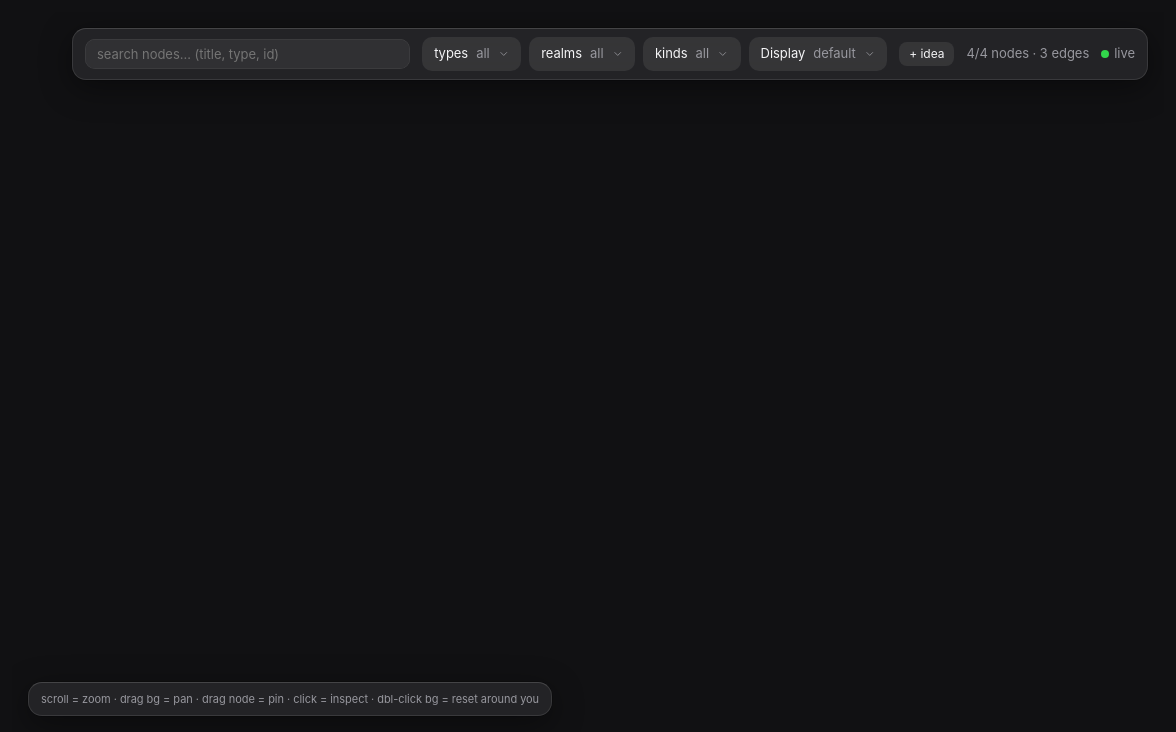
Map › drops a node type from the count when its facet is switched off
Expected: the text "4/4 nodes · 3 edges" is shown, [966, 44, 1089, 64]
Click the button "types all" at (472, 54), box [422, 37, 521, 70]
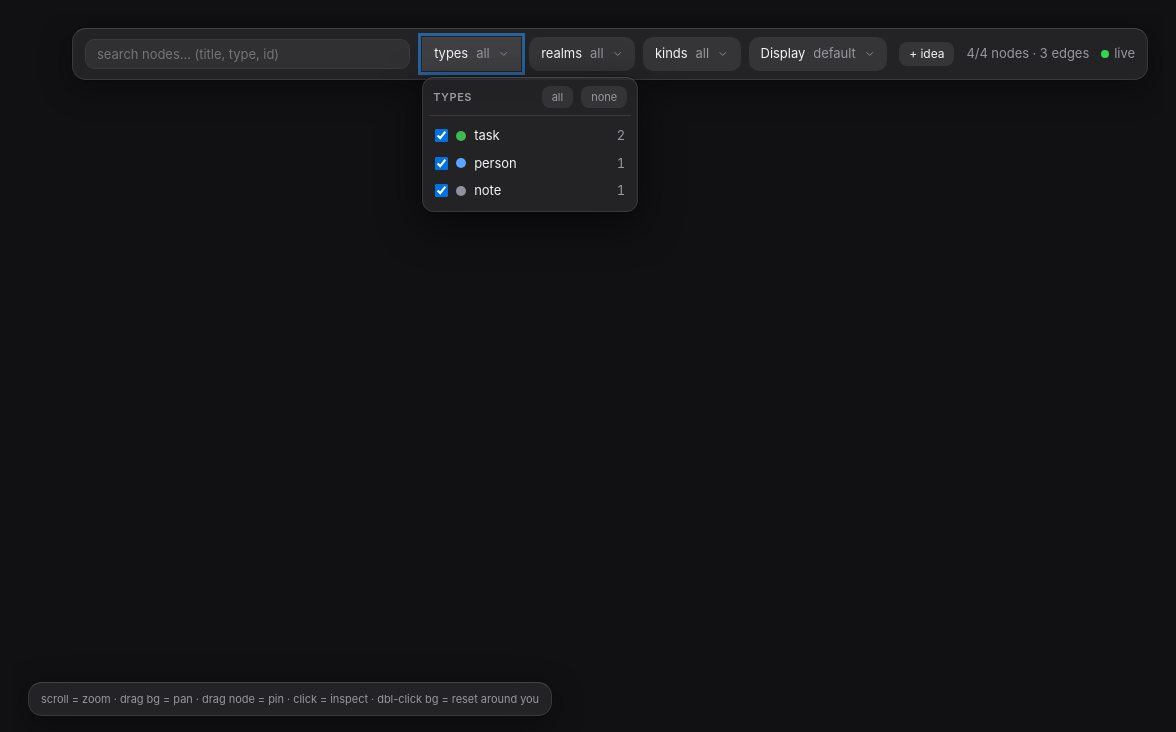
Click the checkbox labelled "task 2" at (442, 136), box [435, 129, 448, 142]
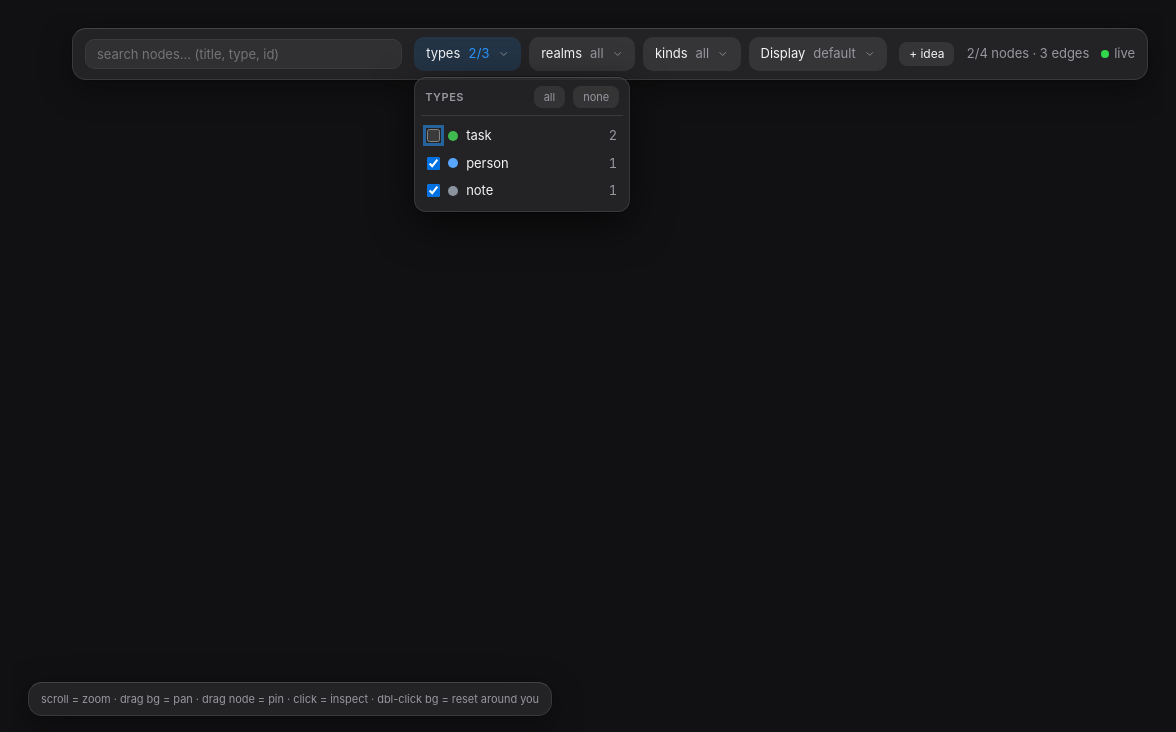
Expected: the text "2/4 nodes · 3 edges" is shown, [966, 44, 1089, 64]
